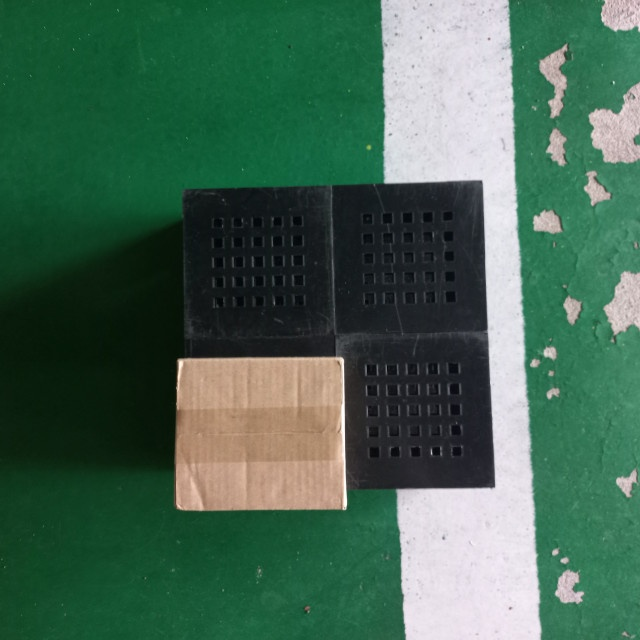box: (173, 352, 347, 513)
pallet: (171, 176, 496, 501)
